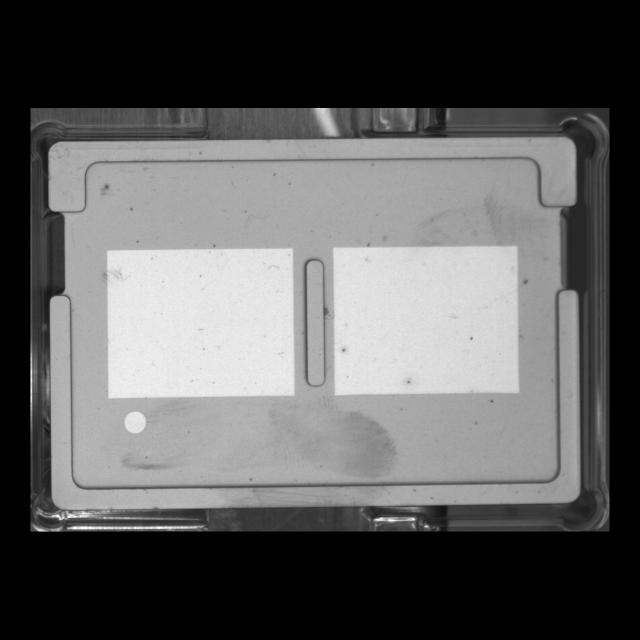door: (38, 131, 585, 227)
point: (115, 403, 156, 442)
